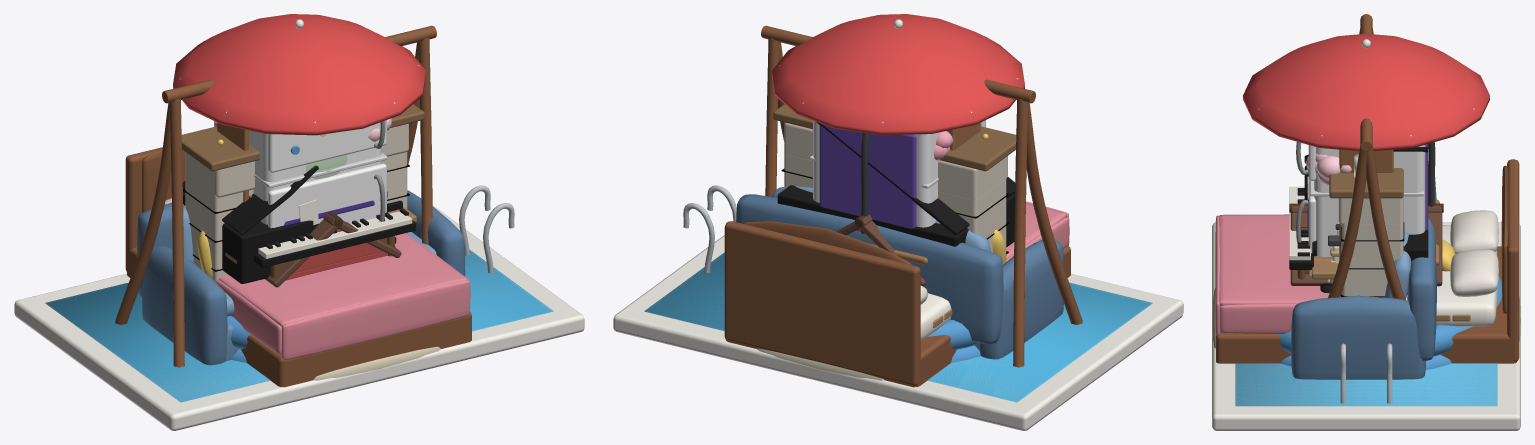
File: modelos.glb
3 views of the same model, side by side, from view 1: azimuth 30°, elevation 25°; view 2: azimuth 150°, elevation 25°; view 3: azimuth 270°, elevation 25° (orthographic). The views are drawn at different scales.
Visible parts, largest first — view 1: sombrilla__p2, cama__p5, piscina__p0, piscina__p1, nevera__p0, sofa__p2, cama__p0, columpio__p0, piano__p0, chimenea__p1, cama__p2, chimenea__p4 (+19 smaller); view 2: cama__p2, sombrilla__p2, piscina__p0, piscina__p1, sofa__p1, arcade__p0, columpio__p0, sofa__p2, chimenea__p3, chimenea__p4, piano__p0, nevera__p0 (+13 smaller); view 3: sombrilla__p2, piscina__p0, sofa__p3, cama__p5, piscina__p1, cama__p0, nevera__p0, columpio__p1, cama__p2, chimenea__p2, sofa__p1, cama__p1 (+20 smaller).
Boxes of the visible parts, bbox=[...] form: sombrilla__p2: bbox=[173, 14, 425, 135]; cama__p5: bbox=[215, 233, 470, 360]; piscina__p0: bbox=[14, 205, 584, 430]; piscina__p1: bbox=[45, 249, 553, 402]; nevera__p0: bbox=[214, 120, 386, 228]; sofa__p2: bbox=[142, 245, 227, 365]; cama__p0: bbox=[127, 247, 471, 387]; columpio__p0: bbox=[115, 98, 184, 367]; piano__p0: bbox=[183, 192, 318, 283]; chimenea__p1: bbox=[185, 173, 253, 280]; cama__p2: bbox=[125, 147, 185, 271]; chimenea__p4: bbox=[181, 104, 424, 171]; cama__p2: bbox=[724, 221, 920, 385]; sombrilla__p2: bbox=[772, 14, 1024, 135]; piscina__p0: bbox=[613, 235, 1183, 430]; piscina__p1: bbox=[644, 252, 1152, 402]; sofa__p1: bbox=[736, 194, 1003, 344]; arcade__p0: bbox=[819, 124, 916, 228]; columpio__p0: bbox=[1013, 98, 1082, 367]; sofa__p2: bbox=[979, 240, 1063, 359]; chimenea__p3: bbox=[784, 122, 1007, 199]; chimenea__p4: bbox=[773, 104, 1016, 171]; piano__p0: bbox=[777, 185, 1014, 247]; nevera__p0: bbox=[813, 120, 985, 227]; sombrilla__p2: bbox=[1243, 33, 1489, 151]; piscina__p0: bbox=[1212, 222, 1520, 430]; sofa__p3: bbox=[1291, 295, 1425, 379]; cama__p5: bbox=[1215, 214, 1340, 335]; piscina__p1: bbox=[1235, 363, 1497, 406]; cama__p0: bbox=[1216, 246, 1516, 363]; nevera__p0: bbox=[1308, 145, 1425, 275]; columpio__p1: bbox=[1328, 146, 1405, 299]; cama__p2: bbox=[1501, 159, 1519, 361]; chimenea__p2: bbox=[1341, 222, 1403, 297]; sofa__p1: bbox=[1407, 161, 1436, 360]; cama__p1: bbox=[1406, 225, 1497, 326].
Size of the model in its own units: 3 by 2.16 by 2.
